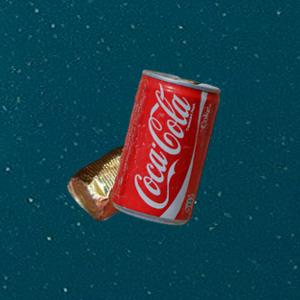can: (113, 70, 220, 225)
